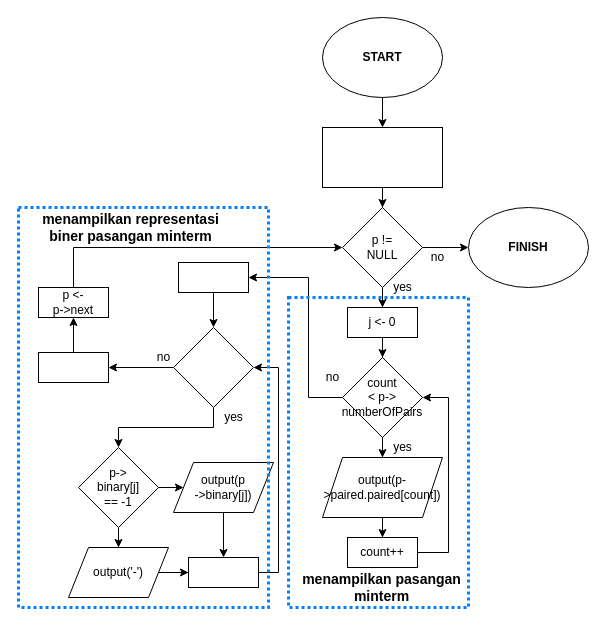
This 606x626 diagram has some shape labels left out. The shapes that lost their labels are listed below. From the top down, each one's centre as x and y in pixels, then its label:
(x=382, y=157): c <- 1 count <- 0 j <- 0 p <- head
(x=213, y=277): count <- 0
(x=73, y=367): c++
(x=213, y=367): j < ukuranBit
(x=223, y=572): j++
